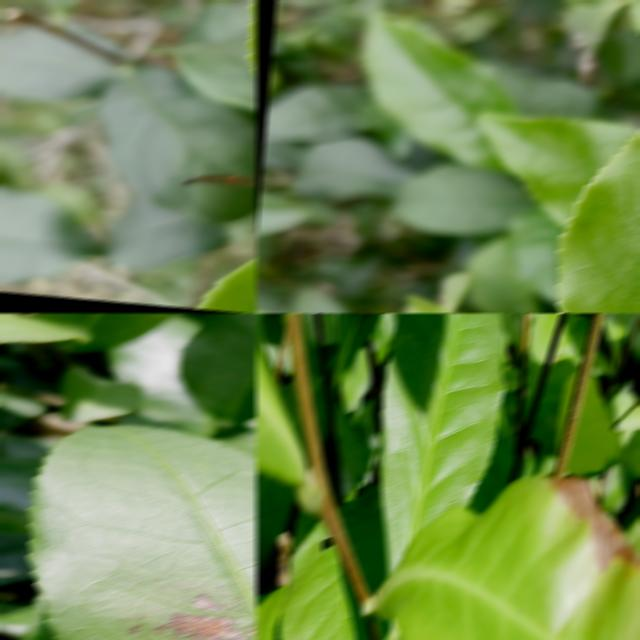Leaf: (29, 426, 257, 640), (373, 477, 640, 640), (379, 313, 504, 573), (99, 66, 257, 222), (362, 12, 514, 171), (477, 112, 635, 227), (278, 515, 370, 640), (392, 163, 535, 235), (0, 186, 96, 282), (179, 313, 257, 425), (105, 197, 226, 269), (0, 26, 115, 100), (294, 138, 410, 199), (564, 374, 621, 476), (467, 237, 541, 313), (36, 313, 178, 352), (255, 471, 297, 593), (61, 367, 141, 422), (343, 493, 388, 589), (195, 256, 257, 313), (333, 313, 382, 384), (0, 313, 90, 343), (0, 452, 42, 512), (279, 380, 309, 462), (304, 347, 329, 442), (601, 313, 634, 366), (555, 372, 577, 451), (622, 429, 640, 479), (324, 344, 337, 391)
